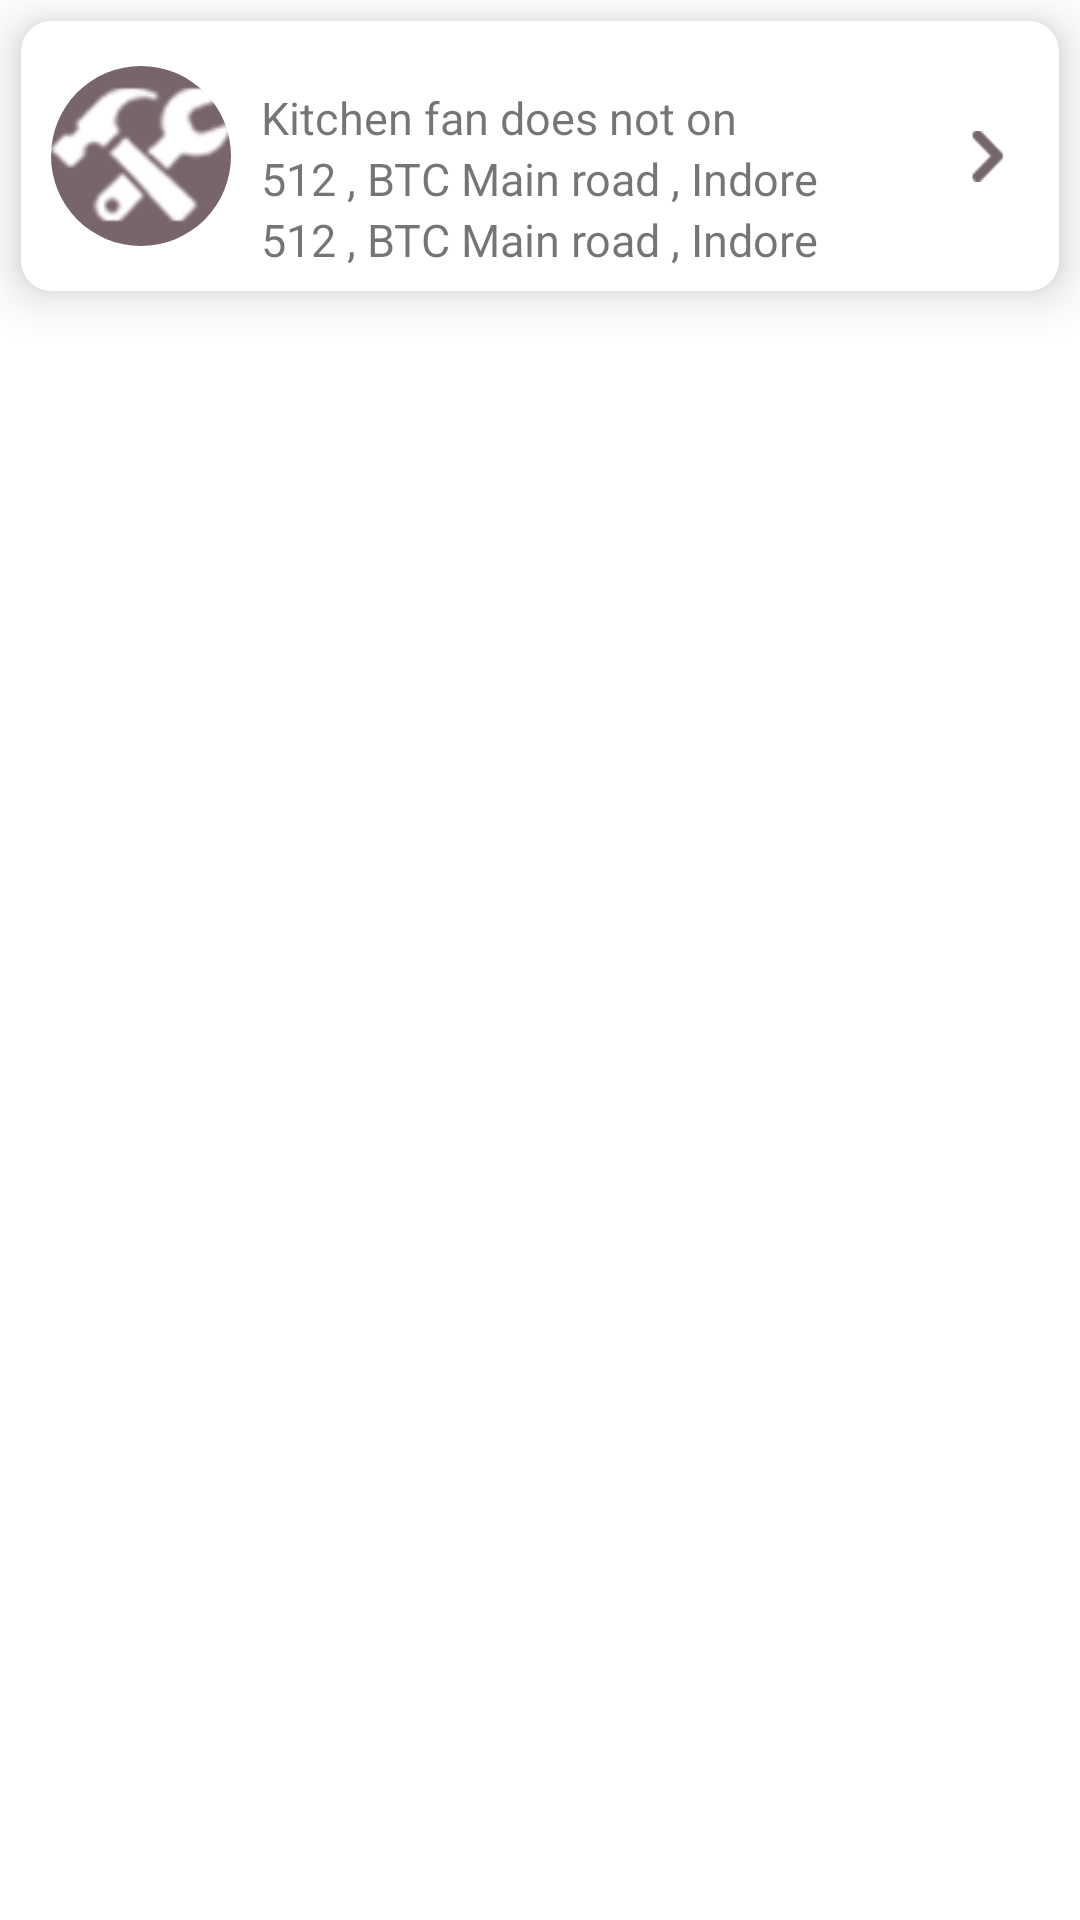

Icon click points for this 1080px x 1920px phone screenshot, format point (x, y):
repair: point (141, 156)
right arrow draw: point (987, 156)
